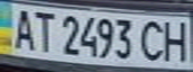2: (54, 11, 81, 56)
3: (112, 16, 139, 61)
4: (78, 14, 100, 57)
9: (93, 15, 118, 60)
A: (6, 6, 39, 52)
C: (136, 17, 169, 62)
H: (157, 17, 193, 63)
T: (30, 8, 57, 53)
